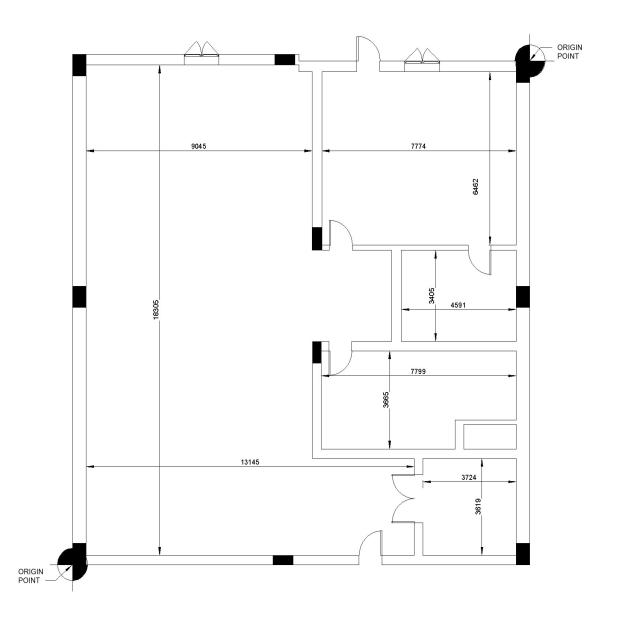Column: (516, 56, 530, 82), (73, 542, 87, 567), (516, 284, 530, 309), (72, 53, 86, 76), (516, 543, 530, 566), (273, 53, 296, 67), (73, 286, 86, 308), (273, 554, 294, 566), (312, 341, 322, 365), (312, 227, 322, 249)
Door: (350, 528, 389, 568), (351, 29, 384, 74), (462, 246, 498, 278), (328, 340, 355, 379), (328, 218, 352, 250)
Double-Door: (388, 468, 425, 524)
Window: (183, 40, 220, 68), (404, 48, 441, 75)
